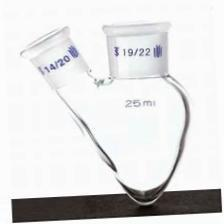Pear shaped flask: (17, 12, 187, 208)
